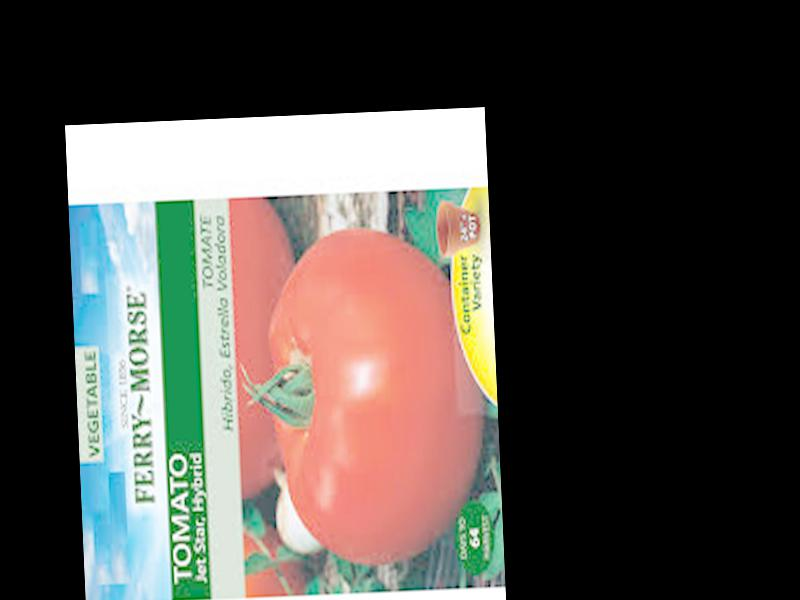Tomato: (264, 226, 489, 569)
